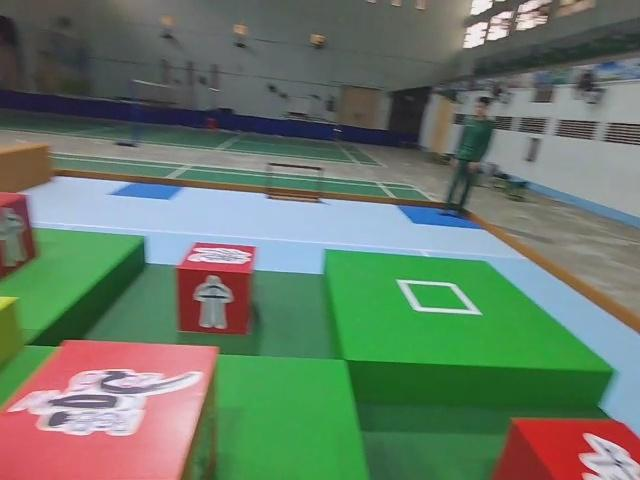R1: (0, 338, 233, 480)
R2 Fake: (169, 242, 259, 336)
